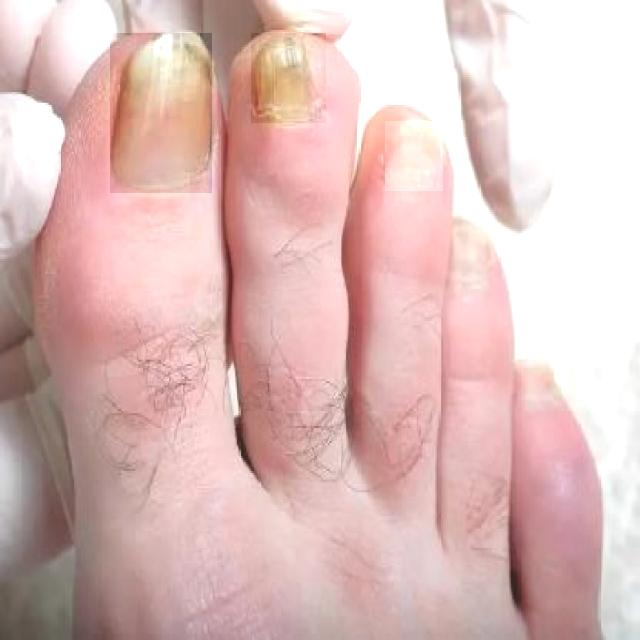diabetes: (111, 34, 212, 193), (251, 34, 326, 123), (386, 121, 443, 191)
